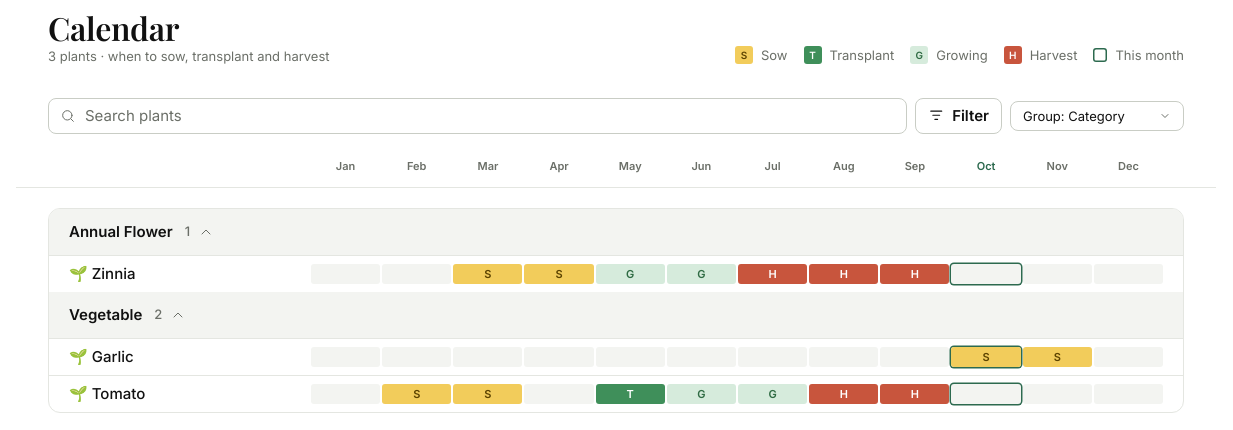
Test case: Calendar › can group by zone instead
Select "Group: Zone" in the dropdown named "Group plants by": (1097, 116) [1010,101,1184,131]
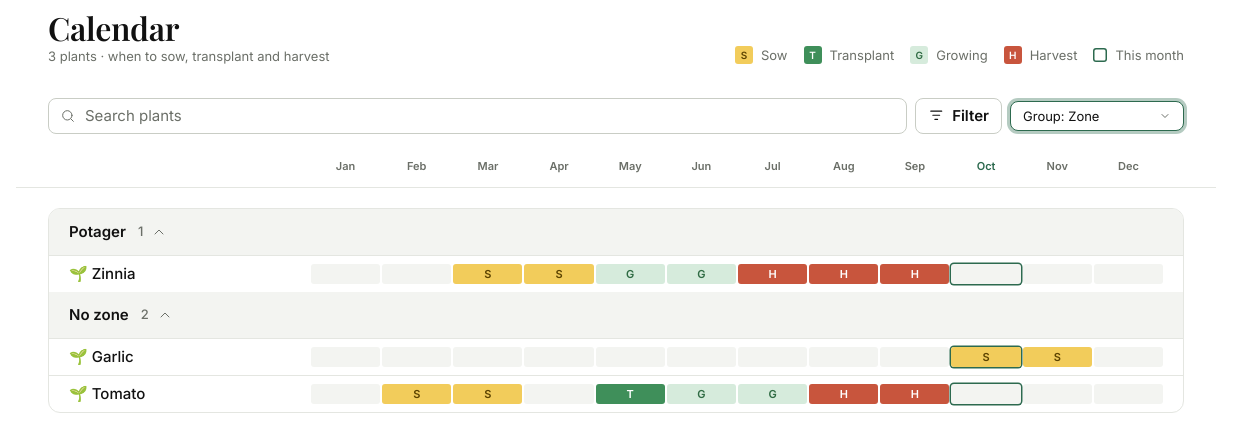
Result: the button "Potager 1" is shown at [69,217,167,247]
Result: the button "No zone 2" is shown at [69,300,173,330]
